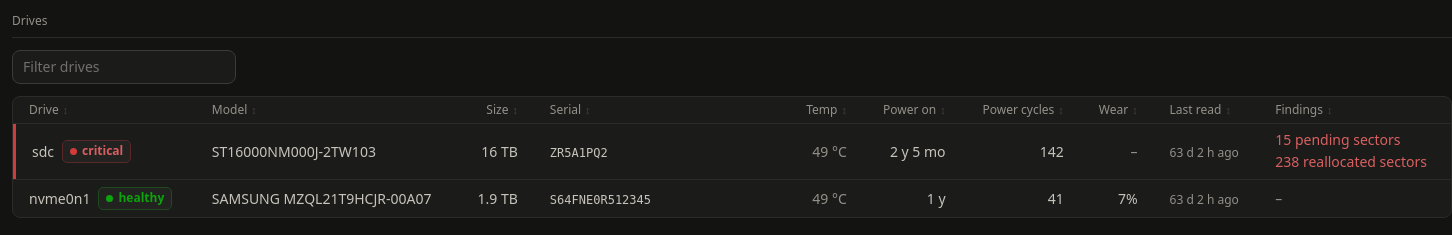
Drives › finds a drive by its findings, not only by its name
Step 1. Type "pending" into the search field labelled "Filter drives" → (124, 67), box [12,50,236,84]
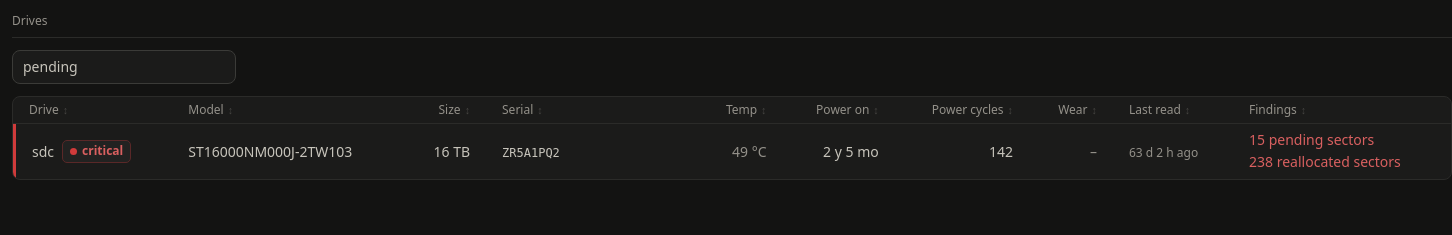
Expected: the row "sdc" is shown, [13,124,1451,179]
Result: the row "nvme0n1" is gone
